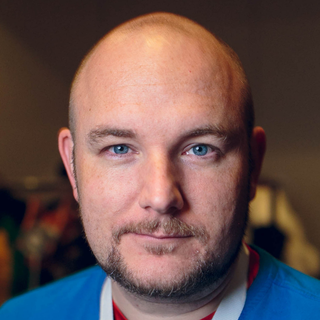eye: (172, 138, 227, 166), (90, 140, 147, 167)
